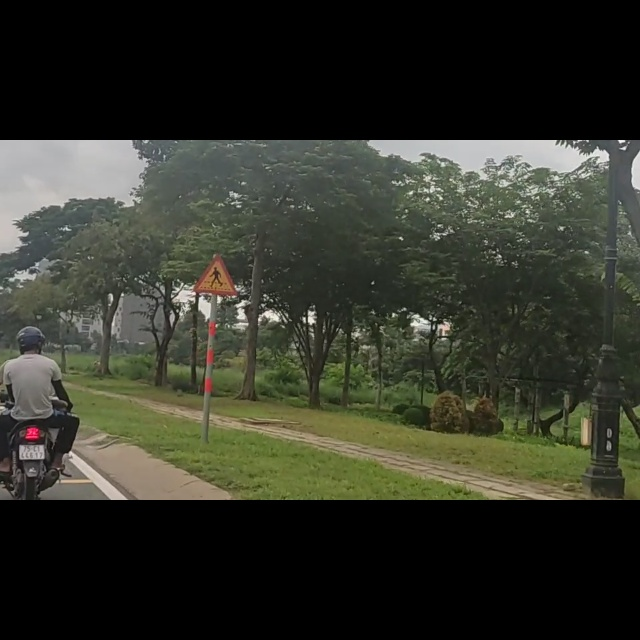bien_nguy_hiem: (195, 201, 237, 275)
